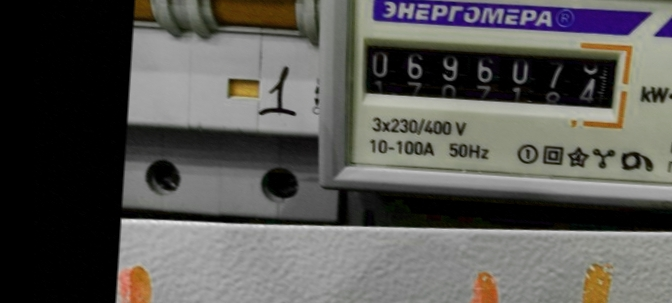0: (369, 49, 392, 80), (511, 57, 531, 87)
4: (576, 76, 597, 106)
6: (475, 54, 496, 87), (405, 51, 426, 81)
7: (545, 58, 565, 90)
9: (440, 53, 461, 83)
screen: (348, 22, 637, 131)
